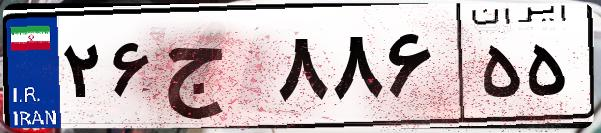2: (57, 26, 110, 100)
5: (475, 38, 525, 113), (525, 38, 570, 115)
6: (385, 28, 445, 110), (110, 28, 158, 98)
8: (270, 28, 330, 110), (330, 28, 385, 110)
ج: (158, 20, 270, 120)
